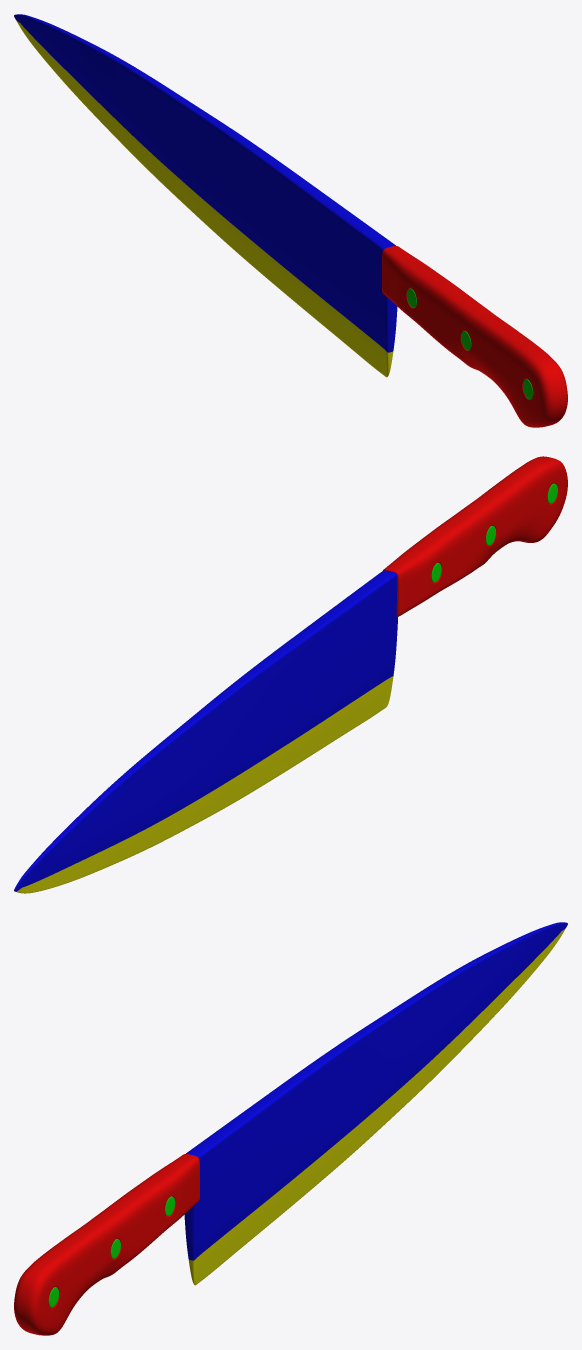
The model's file is Knife_high.fbx.
3 renders of one model, top to bottom at view 1: azimuth 30°, elevation 25°; view 2: azimuth 150°, elevation 25°; view 3: azimuth 330°, elevation 25°, orthographic.
Visible parts, largest first — view 1: Knife; view 2: Knife; view 3: Knife.
Boxes of the visible parts, x1,y1,x2,y2 form: Knife: [14, 14, 567, 427]; Knife: [14, 456, 567, 893]; Knife: [14, 922, 567, 1335].
Size of the model in its own units: 16.31 by 82.68 by 603.
